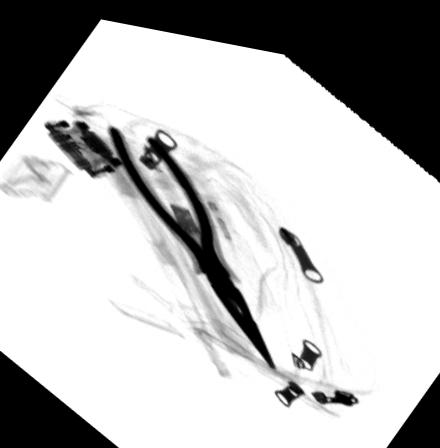Pliers: (105, 118, 277, 360)
